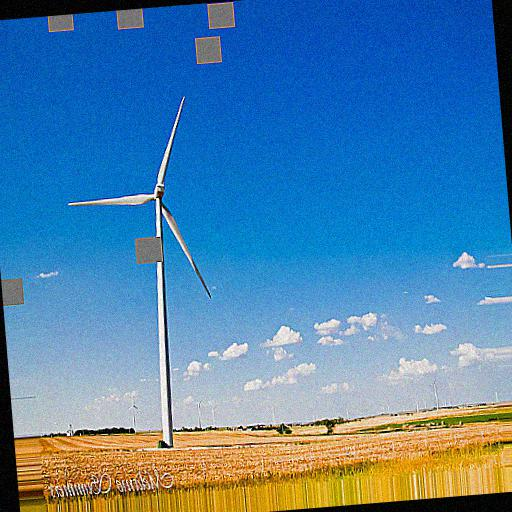wind turbine: (68, 94, 212, 441)
